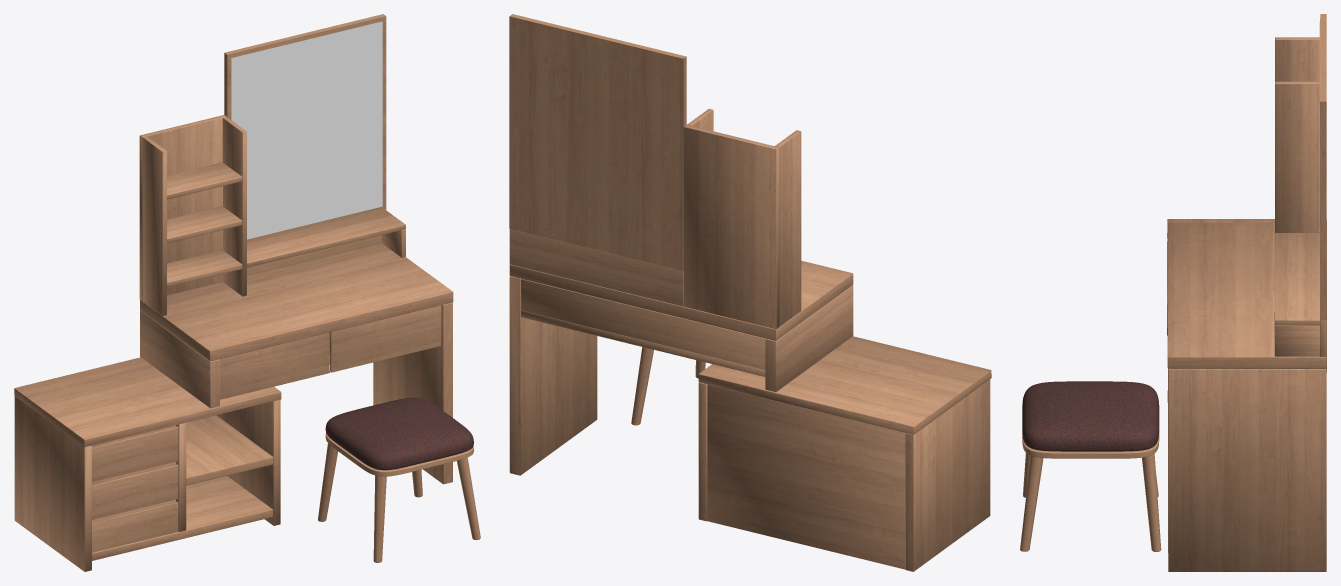
Rendered from dressingtable-2.glb.
3 renders of one model, left to right at view 1: azimuth 30°, elevation 25°; view 2: azimuth 150°, elevation 25°; view 3: azimuth 270°, elevation 25°, orthographic. The views are drawn at different scales.
Visible parts, largest first — view 1: Plane.1144_9, Plane.114_14, Plane.1730_3, Plane.1126_26, Plane.1112_29, Plane.1733_0, Plane.1732_1, Plane.1149_4, Plane.1148_5, Plane.1127_25, Plane.1138_16, Plane.1130_22 (+17 smaller); view 2: Plane.003_34, Plane.1129_23, Plane.1733_0, Plane.1730_3, Plane.1126_26, Plane.1732_1, Plane.1146_7, Plane.004_35, Plane.114_14, Plane.1731_2, Plane.1138_16, Plane.1145_8 (+2 smaller); view 3: Plane.1732_1, Plane.114_14, Plane.1112_29, Plane.1139_15, Plane.1137_17, Plane.003_34, Plane.1138_16, Plane.1141_12, Cylinder.016_32, Cylinder.015_33, Plane.1121_28, Plane.1730_3.
Part boxes in pixels (x1,y1,x2,y2): Plane.1144_9: (231,21,382,239); Plane.114_14: (140,243,453,361); Plane.1730_3: (14,357,281,446); Plane.1126_26: (14,396,91,571); Plane.1112_29: (325,397,473,470); Plane.1733_0: (139,115,226,301); Plane.1732_1: (373,302,452,484); Plane.1149_4: (329,305,441,372); Plane.1148_5: (220,332,329,399); Plane.1127_25: (92,476,272,560); Plane.1138_16: (142,136,166,315); Plane.1130_22: (186,415,273,485); Plane.003_34: (509,14,686,271); Plane.1129_23: (707,384,905,569); Plane.1733_0: (683,125,779,329); Plane.1730_3: (698,336,991,434); Plane.1126_26: (905,379,990,571); Plane.1732_1: (509,276,597,475); Plane.1146_7: (521,279,765,369); Plane.004_35: (509,229,683,306); Plane.114_14: (509,260,853,340); Plane.1731_2: (765,285,853,392); Plane.1138_16: (775,130,801,326); Plane.1145_8: (521,310,765,376); Plane.1732_1: (1168,368,1326,571); Plane.114_14: (1167,223,1326,368); Plane.1112_29: (1022,381,1159,451); Plane.1139_15: (1275,81,1319,232); Plane.1137_17: (1274,233,1319,325); Plane.003_34: (1320,14,1326,320); Plane.1138_16: (1275,37,1319,81); Plane.1141_12: (1274,325,1319,356); Cylinder.016_32: (1142,454,1161,551); Cylinder.015_33: (1020,456,1043,551); Plane.1121_28: (1022,433,1159,458); Plane.1730_3: (1167,219,1326,335).
Bounding box in the file's own units: 8.11 × 8.75 × 5.17.
Materials: 4 (3 with a texture image).
